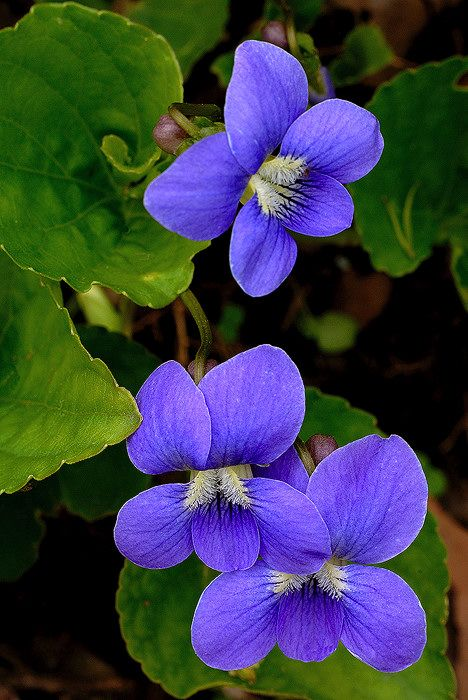violet: (183, 429, 429, 674), (83, 350, 340, 569), (188, 38, 395, 297)
